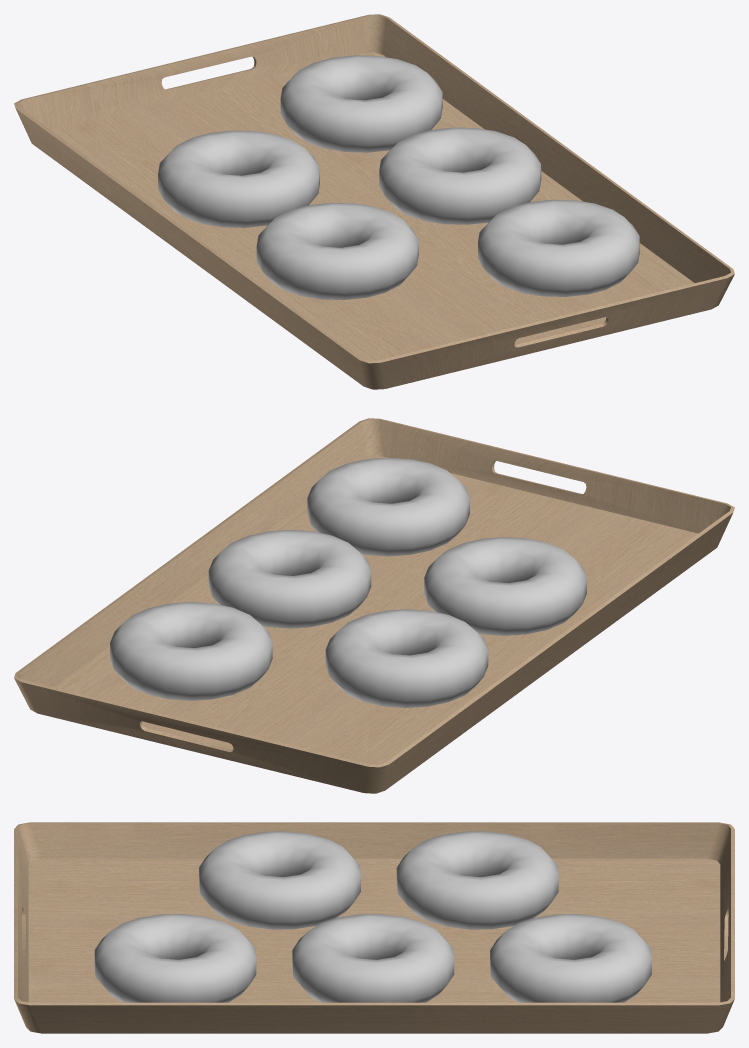
Rendered from D_Cafe_Food_001.fbx.
3 views of the same model, one above another, from view 1: azimuth 30°, elevation 25°; view 2: azimuth 150°, elevation 25°; view 3: azimuth 270°, elevation 25° (orthographic).
Parts seen in each view (by area): view 1: D_Cafe_Food_001; view 2: D_Cafe_Food_001; view 3: D_Cafe_Food_001.
Part boxes in pixels (x1,y1,x2,y2): D_Cafe_Food_001: (14, 14, 734, 389); D_Cafe_Food_001: (14, 418, 734, 793); D_Cafe_Food_001: (14, 822, 734, 1033).
Bounding box in the file's own units: 0.2972 × 0.0372 × 0.4951.
